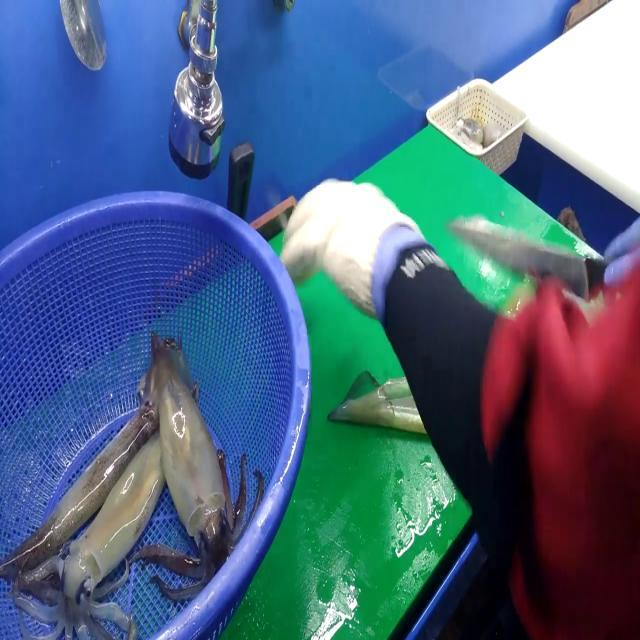squid: (0, 335, 179, 572), (12, 427, 165, 640), (143, 330, 264, 598)
